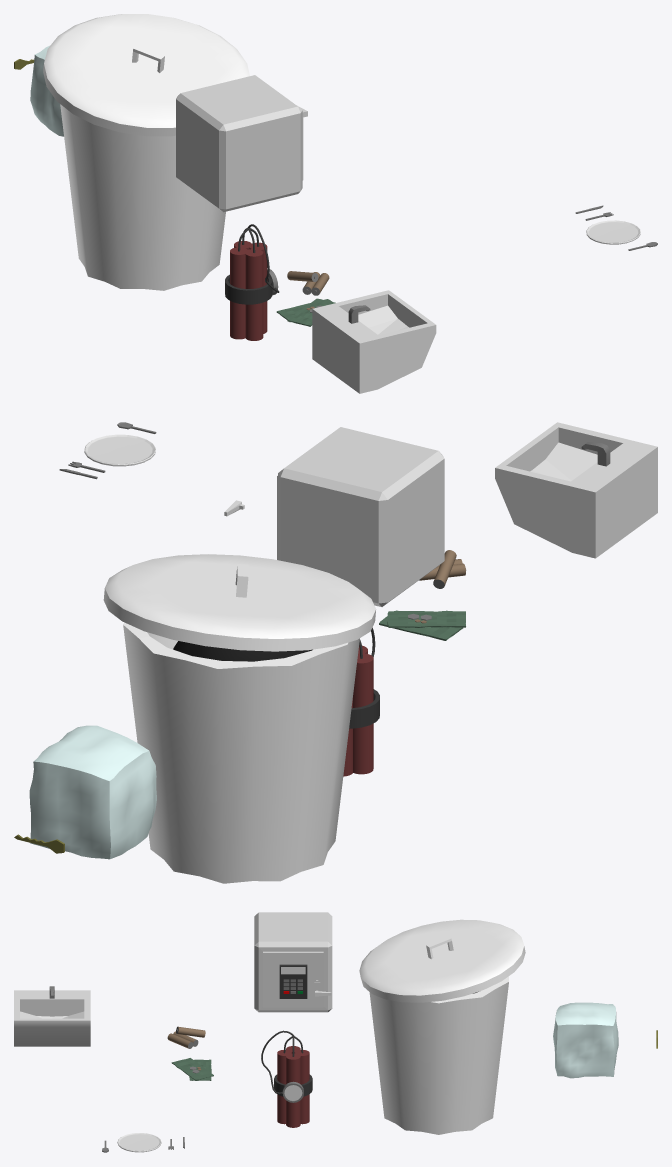
File: LevelObjects.fbx
3 renders of one model, top to bottom at view 1: azimuth 30°, elevation 25°; view 2: azimuth 150°, elevation 25°; view 3: azimuth 270°, elevation 25°, orthographic. The views are drawn at different scales.
Visible parts, largest first — view 1: Bin2, Vault1, Sink, TimedExplosive, FrozenKey, Plate, Cash, Batteries; view 2: Bin2, Vault1, Sink, FrozenKey, TimedExplosive, Cash, Plate, Batteries; view 3: Bin2, Vault1, FrozenKey, Sink, VaultLid, TimedExplosive, Plate, Cash, Batteries.
Boxes of the visible parts, bbox=[...] form: Bin2: bbox=[43, 14, 249, 290]; Vault1: bbox=[176, 75, 302, 212]; Sink: bbox=[312, 290, 436, 393]; TimedExplosive: bbox=[225, 224, 279, 340]; FrozenKey: bbox=[30, 45, 63, 136]; Plate: bbox=[586, 220, 640, 244]; Cash: bbox=[276, 298, 335, 326]; Batteries: bbox=[287, 271, 329, 295]; Bin2: bbox=[103, 554, 376, 883]; Vault1: bbox=[278, 427, 444, 606]; Sink: bbox=[495, 422, 657, 558]; FrozenKey: bbox=[29, 725, 156, 859]; TimedExplosive: bbox=[343, 627, 379, 776]; Cash: bbox=[379, 610, 465, 640]; Plate: bbox=[84, 434, 155, 466]; Batteries: bbox=[419, 550, 466, 588]; Bin2: bbox=[359, 919, 525, 1134]; Vault1: bbox=[254, 912, 332, 1012]; FrozenKey: bbox=[553, 1002, 618, 1078]; Sink: bbox=[14, 986, 90, 1046]; VaultLid: bbox=[263, 951, 323, 1007]; TimedExplosive: bbox=[261, 1030, 312, 1127]; Plate: bbox=[117, 1133, 161, 1152]; Cash: bbox=[171, 1058, 213, 1080]; Batteries: bbox=[167, 1026, 205, 1048].
Size of the model in its own units: 0.0477 by 0.0274 by 0.0841.
